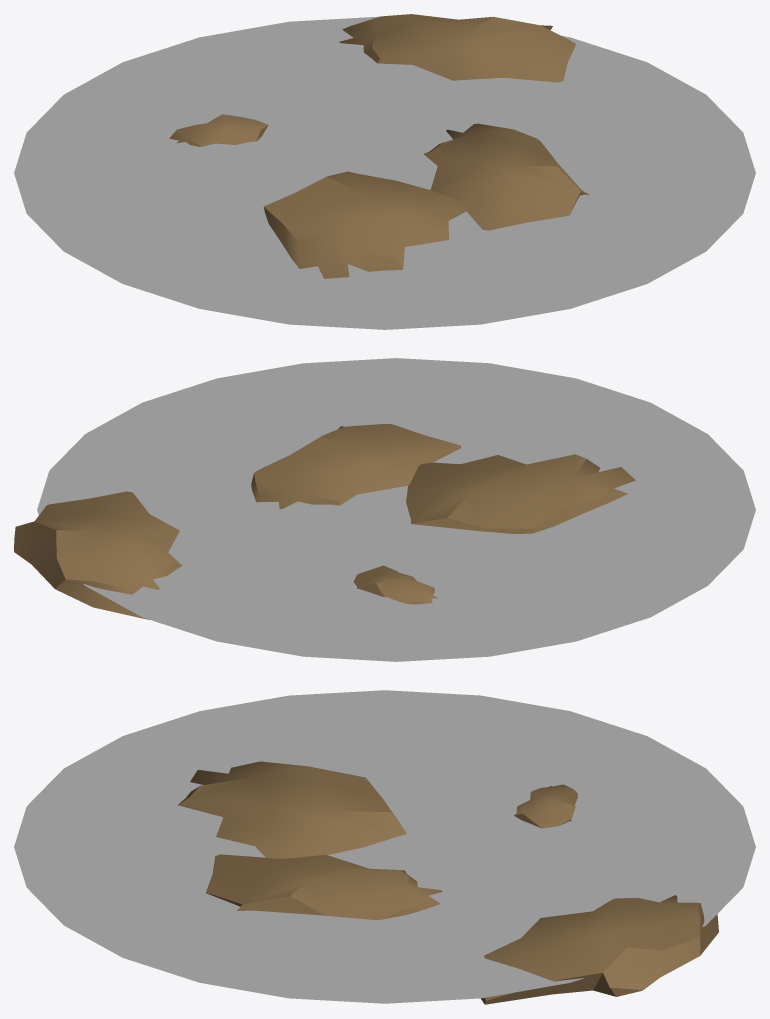
File: RocksforRover.fbx
The picture shows the model from 3 angles, top to bottom: view 1: azimuth 30°, elevation 25°; view 2: azimuth 150°, elevation 25°; view 3: azimuth 270°, elevation 25°; orthographic projection. The views are drawn at different scales.
Parts seen in each view (by area): view 1: Ground, Rocks; view 2: Ground, Rocks; view 3: Ground, Rocks.
Part boxes in pixels (<box>): Ground: <box>14,16,755,329</box>; Rocks: <box>169,14,589,278</box>; Ground: <box>37,358,755,661</box>; Rocks: <box>14,424,635,619</box>; Ground: <box>14,690,755,1003</box>; Rocks: <box>178,761,718,1004</box>.
Bounding box in the file's own units: 487 × 19.58 × 487.
